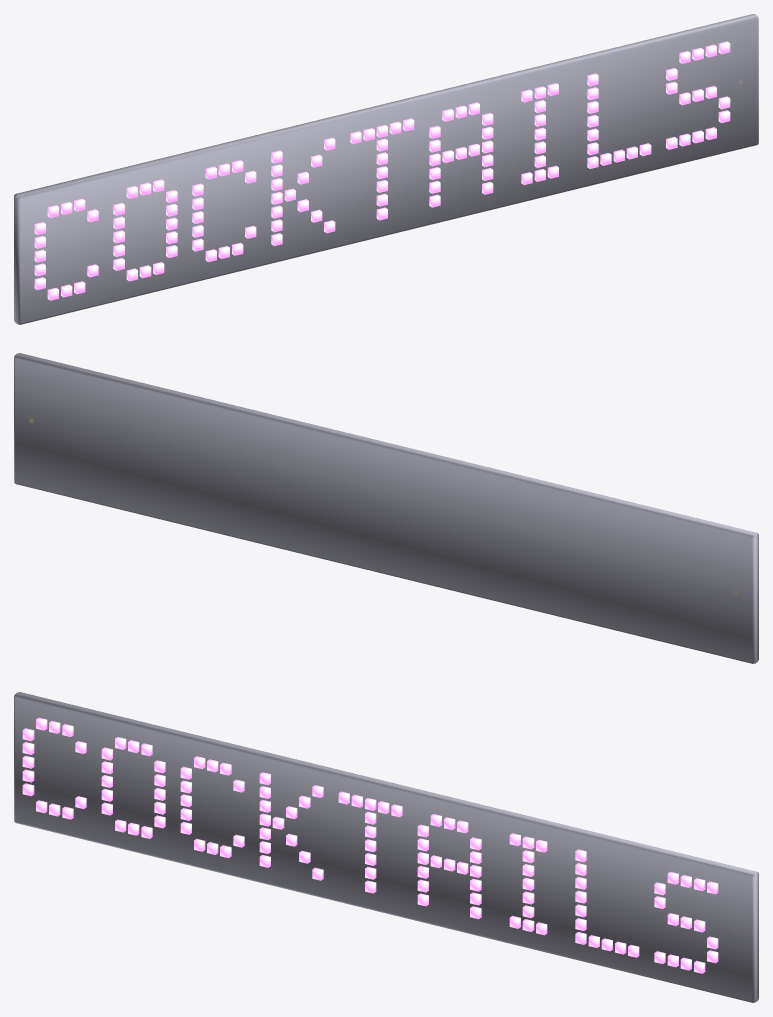
File: neon_cocktails.glb
3 views of the same model, one above another, from view 1: azimuth 30°, elevation 25°; view 2: azimuth 150°, elevation 25°; view 3: azimuth 330°, elevation 25° (orthographic).
Parts seen in each view (by area): view 1: Neon backer, Neon pink; view 2: Neon backer; view 3: Neon backer, Neon pink.
Boxes of the visible parts, x1,y1,x2,y2 form: Neon backer: (14, 14, 758, 324); Neon pink: (34, 41, 730, 300); Neon backer: (14, 353, 758, 663); Neon backer: (14, 692, 758, 1002); Neon pink: (22, 717, 718, 973).
Size of the model in its own units: 2.37 by 0.394 by 0.055.
